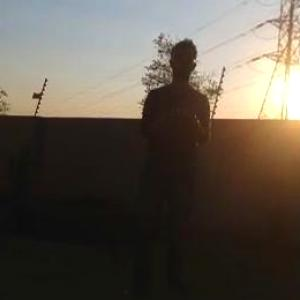follow: (111, 33, 212, 290)
